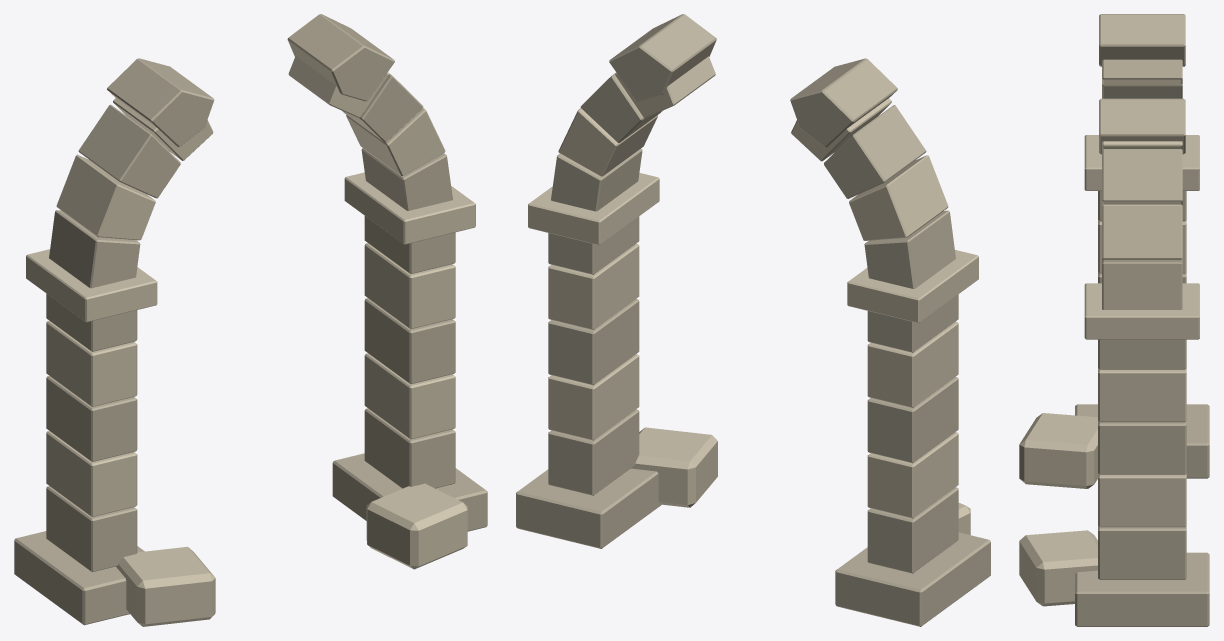
The model's file is S022_broken_arch_rebuilt.glb.
The picture shows the model from 3 angles, left to right: view 1: azimuth 30°, elevation 25°; view 2: azimuth 150°, elevation 25°; view 3: azimuth 270°, elevation 25°; orthographic projection. The views are drawn at different scales.
Visible parts, largest first — view 1: Limestone_painted_foam, Cut_stone_alternate_wash; view 2: Limestone_painted_foam, Cut_stone_alternate_wash; view 3: Limestone_painted_foam, Cut_stone_alternate_wash.
Part boxes in pixels (x1,y1,x2,y2): Limestone_painted_foam: (14,14,487,625); Cut_stone_alternate_wash: (26,56,475,626); Limestone_painted_foam: (516,14,990,626); Cut_stone_alternate_wash: (528,56,978,534); Limestone_painted_foam: (1075,14,1209,626); Cut_stone_alternate_wash: (1019,59,1199,606).
Size of the model in its own units: 2.76 by 3.25 by 1.18.
